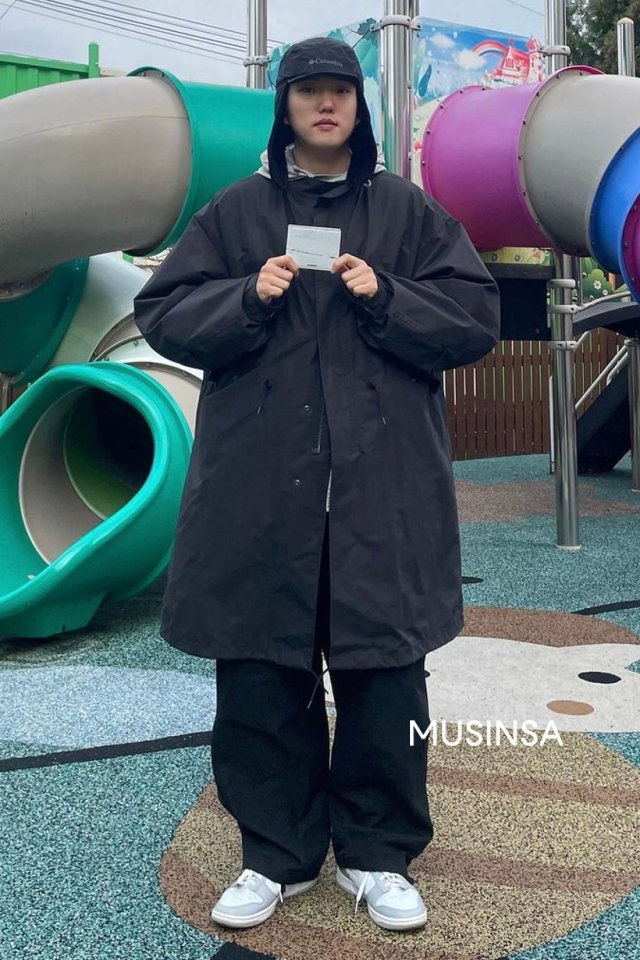Hat: (273, 39, 376, 187)
Outer: (130, 158, 505, 673)
Pants: (213, 650, 438, 882)
Shoes: (207, 857, 433, 941)
